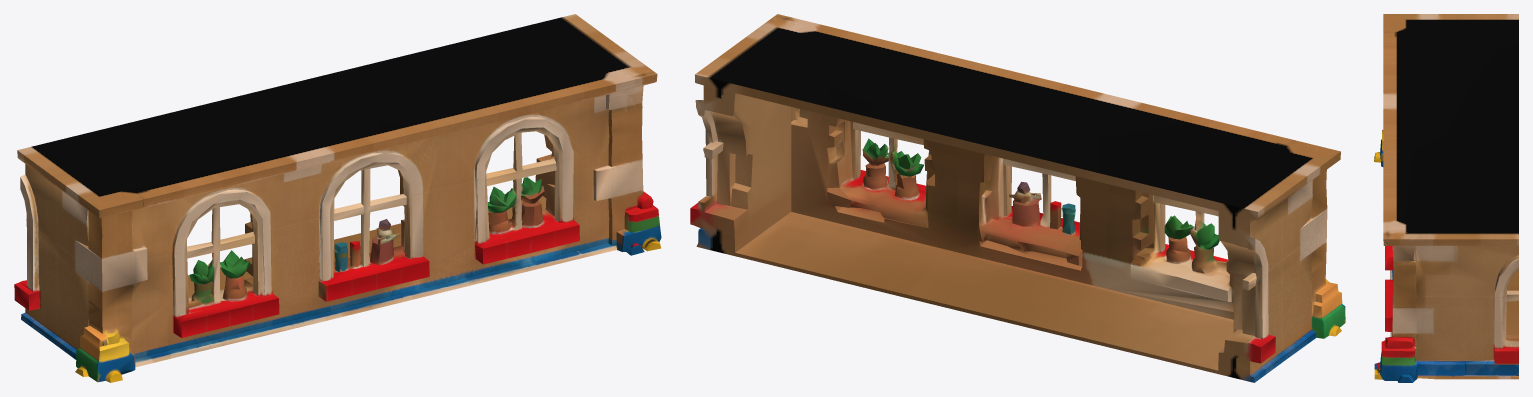
The model's file is 5-upper-walls-front.fbx.
3 views of the same model, side by side, from view 1: azimuth 30°, elevation 25°; view 2: azimuth 150°, elevation 25°; view 3: azimuth 270°, elevation 25° (orthographic). The views are drawn at different scales.
Parts seen in each view (by area): view 1: upper-walls-front; view 2: upper-walls-front; view 3: upper-walls-front.
Part boxes in pixels (bbox=[...]): upper-walls-front: bbox=[14, 14, 661, 382]; upper-walls-front: bbox=[690, 14, 1345, 382]; upper-walls-front: bbox=[1374, 14, 1518, 382].
Size of the model in its own units: 8164 by 2307 by 2152.
Materials: 1 (1 with a texture image).
